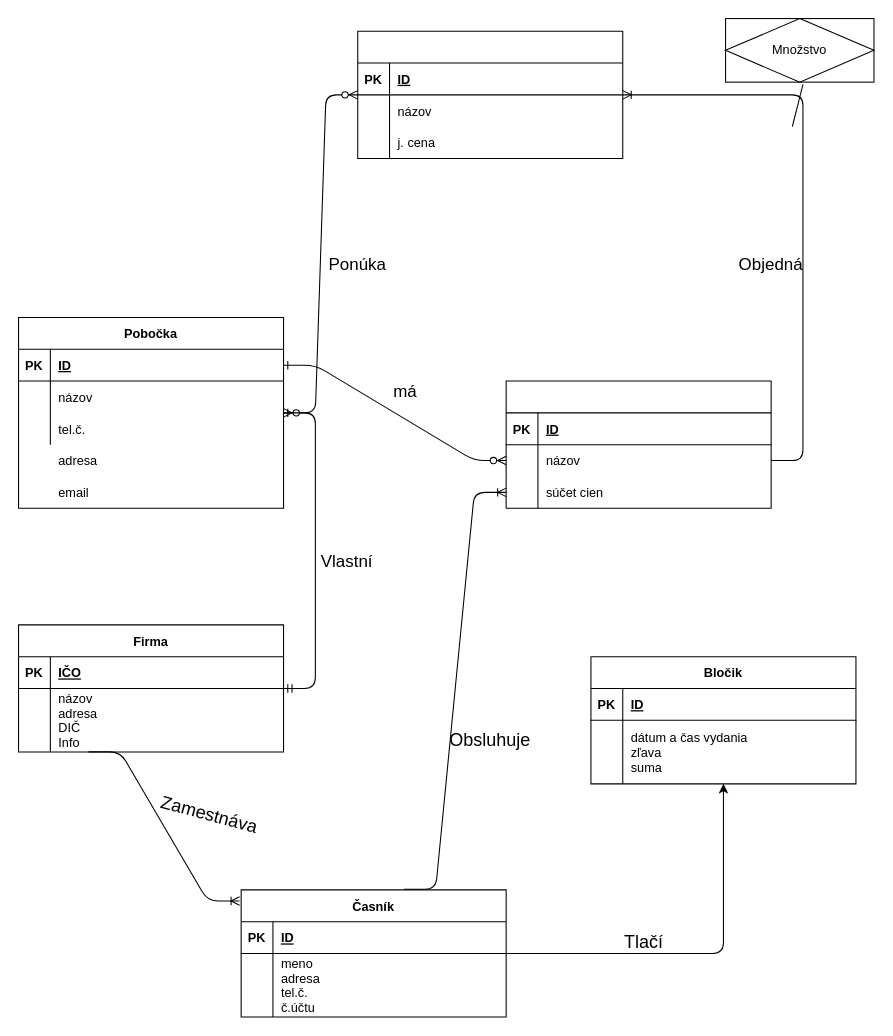
Some shapes in this 893 by 1036 pixel diagram are drawn without their labels. Each missing label, with the box of its shape:
Položka: (357, 30, 623, 158)
Stôl: (505, 380, 771, 508)
